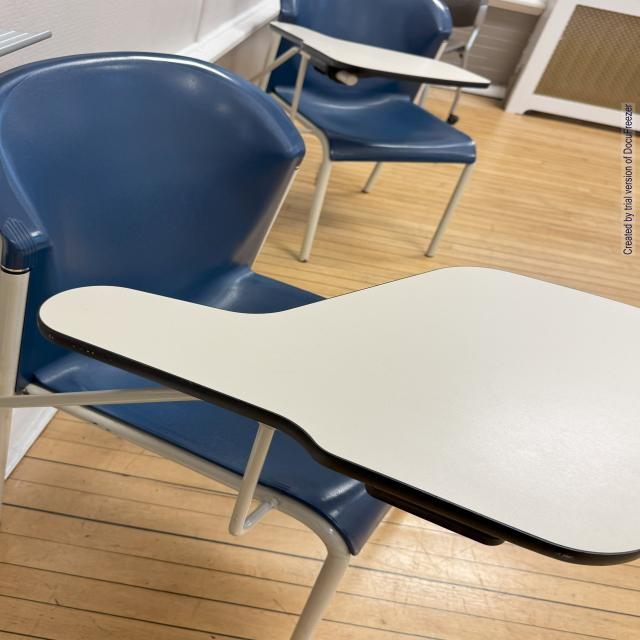chair: (0, 53, 512, 640)
